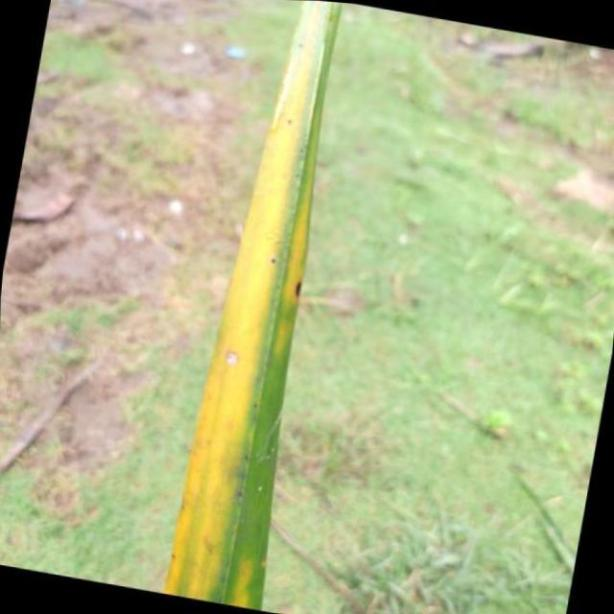Megnesium: (166, 0, 344, 614)
